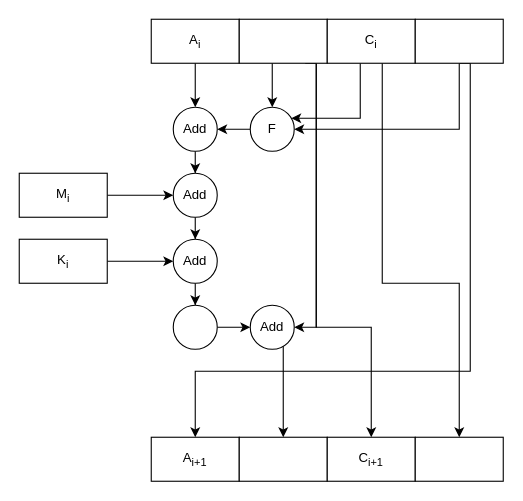
This 523x501 diagram has some shape labels left out. The shapes that lost their labels are listed below. From the top down, each one's centre as x and y in pixels, then its label:
At [282,40]: "B i".
At [458,40]: "D i".
At [194,326]: "<<< s".
At [282,458]: "B i+1".
At [458,458]: "D i+1".
